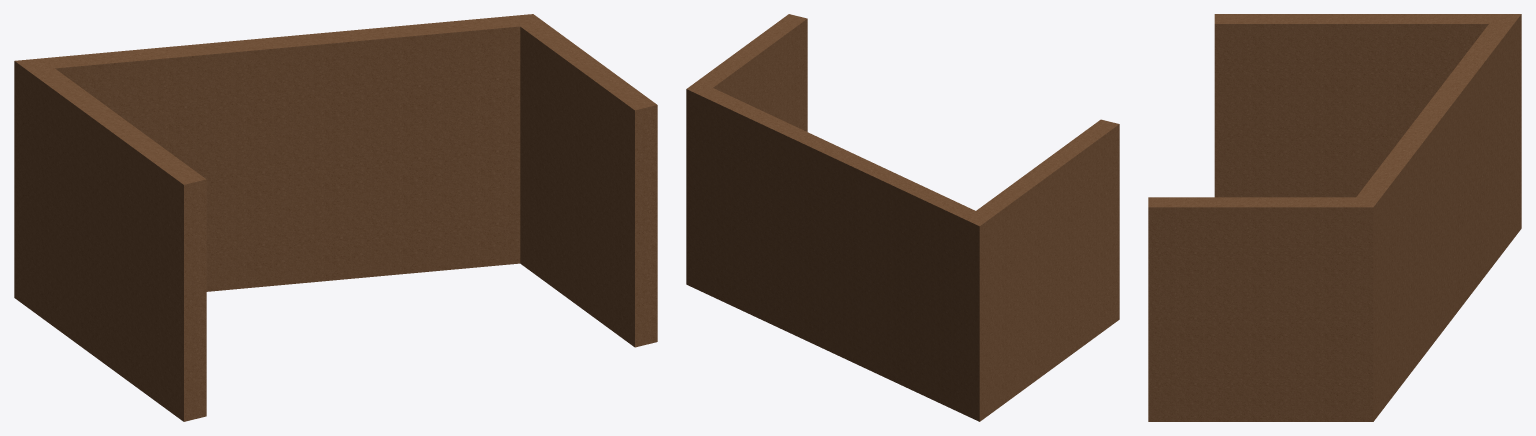
File: simplemap.glb
The picture shows the model from 3 angles, left to right: view 1: azimuth 30°, elevation 25°; view 2: azimuth 150°, elevation 25°; view 3: azimuth 270°, elevation 25°; orthographic projection. The views are drawn at different scales.
Parts seen in each view (by area): view 1: instance_1; view 2: instance_1; view 3: instance_1.
Boxes of the visible parts, bbox=[...] form: instance_1: bbox=[14, 14, 657, 421]; instance_1: bbox=[686, 14, 1119, 421]; instance_1: bbox=[1148, 14, 1521, 421].
Size of what is drawn, in the model's own units: 5.79 by 3 by 4.72.
1 material, 1 textured.
